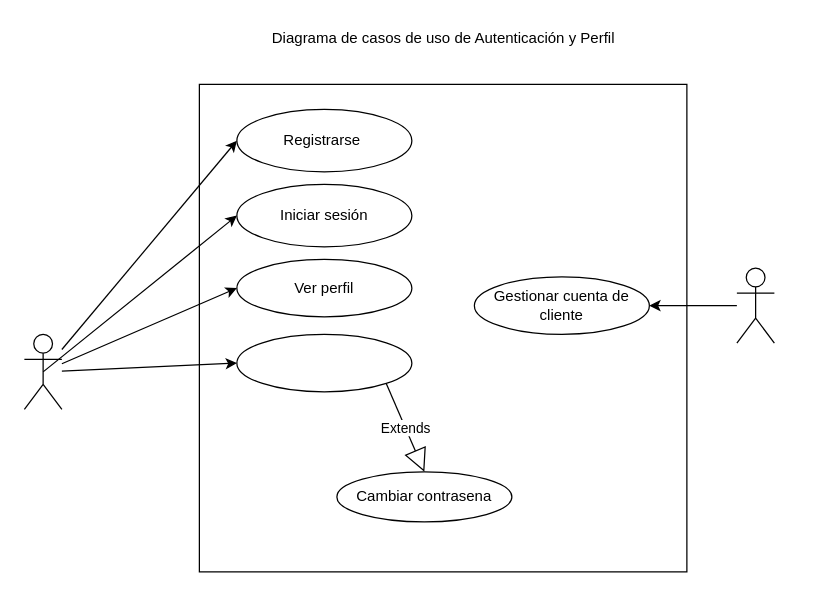
The diagram is 823 pixels wide and 594 high, and some of its shapes have lost their labels. The shapes that lost their labels are listed below. From the top down, each one's centre as x and y in pixels, then its label:
At pixel 755 305: "Administrador".
At pixel 42 371: "Artista".
At pixel 324 362: "Editar perfil".
